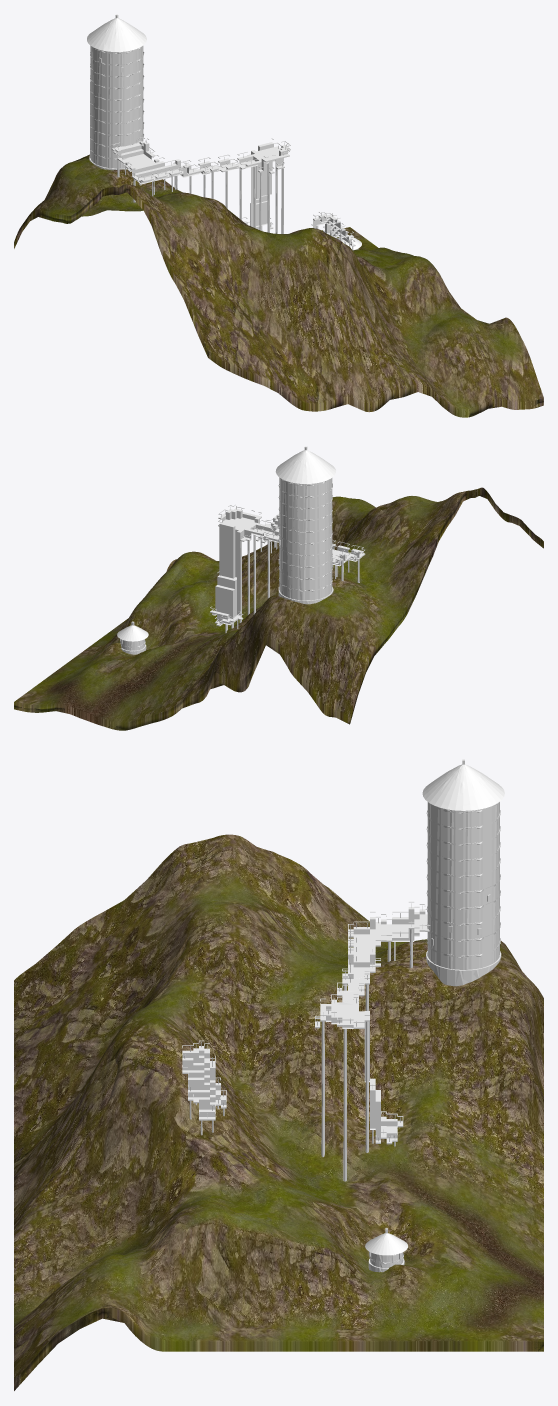
File: chunk_3_3.glb
3 views of the same model, one above another, from view 1: azimuth 30°, elevation 25°; view 2: azimuth 150°, elevation 25°; view 3: azimuth 270°, elevation 25° (orthographic). The views are drawn at different scales.
Parts seen in each view (by area): view 1: Terrain_L0, Terrain_L2, Buildings_L0, Terrain_L1, Buildings_L1; view 2: Terrain_L0, Terrain_L2, Buildings_L0, Terrain_L1, Buildings_L1; view 3: Terrain_L2, Terrain_L0, Terrain_L1, Buildings_L0, Buildings_L1.
Part boxes in pixels (x1,y1,x2,y2): Terrain_L0: (14,154,543,417); Terrain_L2: (14,155,543,416); Buildings_L0: (87,14,361,250); Terrain_L1: (14,156,540,412); Buildings_L1: (87,18,361,249); Terrain_L0: (14,487,543,730); Terrain_L2: (14,488,543,729); Buildings_L0: (117,446,365,654); Terrain_L1: (14,489,541,730); Buildings_L1: (117,450,359,654); Terrain_L2: (14,838,543,1390); Terrain_L0: (14,834,543,1389); Terrain_L1: (14,835,543,1390); Buildings_L0: (182,759,501,1272); Buildings_L1: (182,764,504,1272).
Bounding box in the file's own units: 96 × 91.42 × 96.
Materials: 4 (1 with a texture image).
